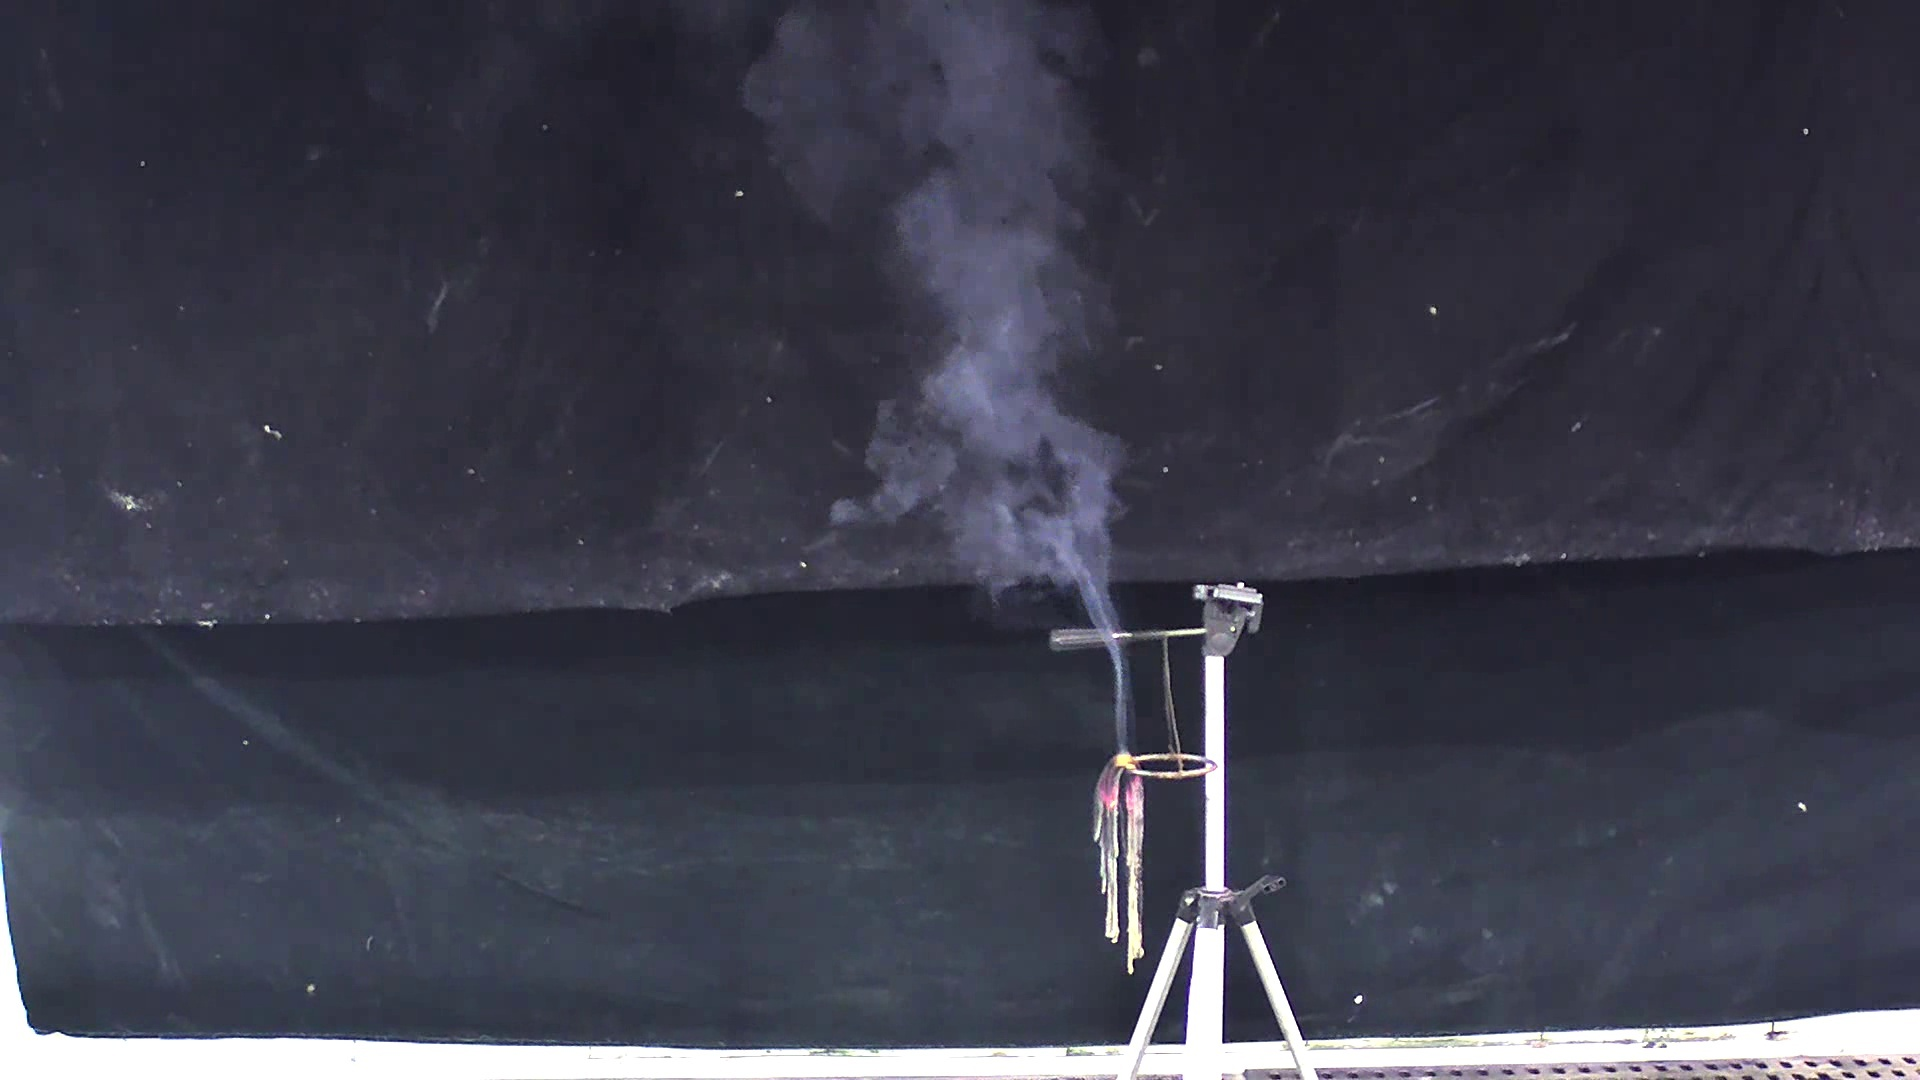smoke: (721, 16, 1164, 757)
